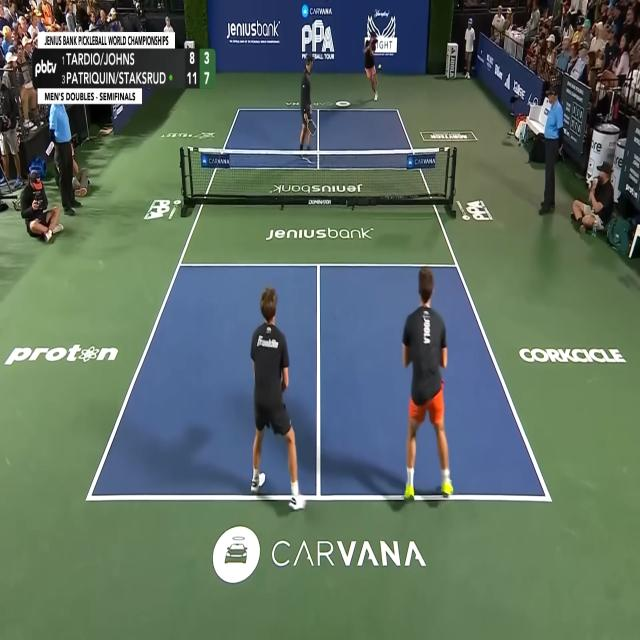ball: (378, 64, 382, 70)
